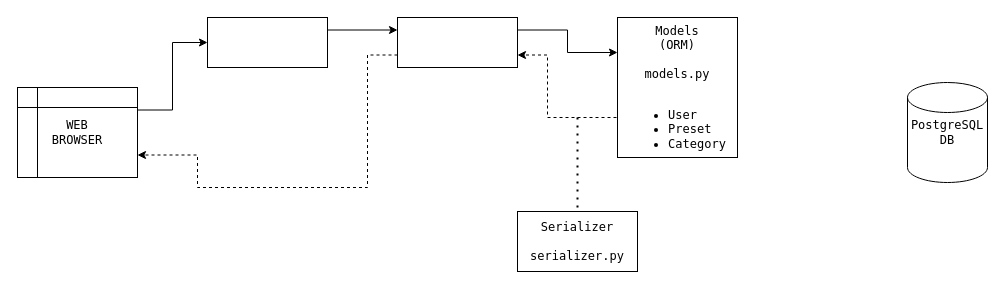
The diagram is 1005 pixels wide and 289 high, and some of its shapes have lost their labels. The centre of each missing label's shape, as x and y in pixels:
"URLs config urls.py" goes at point 267,42.
"Views (Control) view.py" goes at point 457,42.
